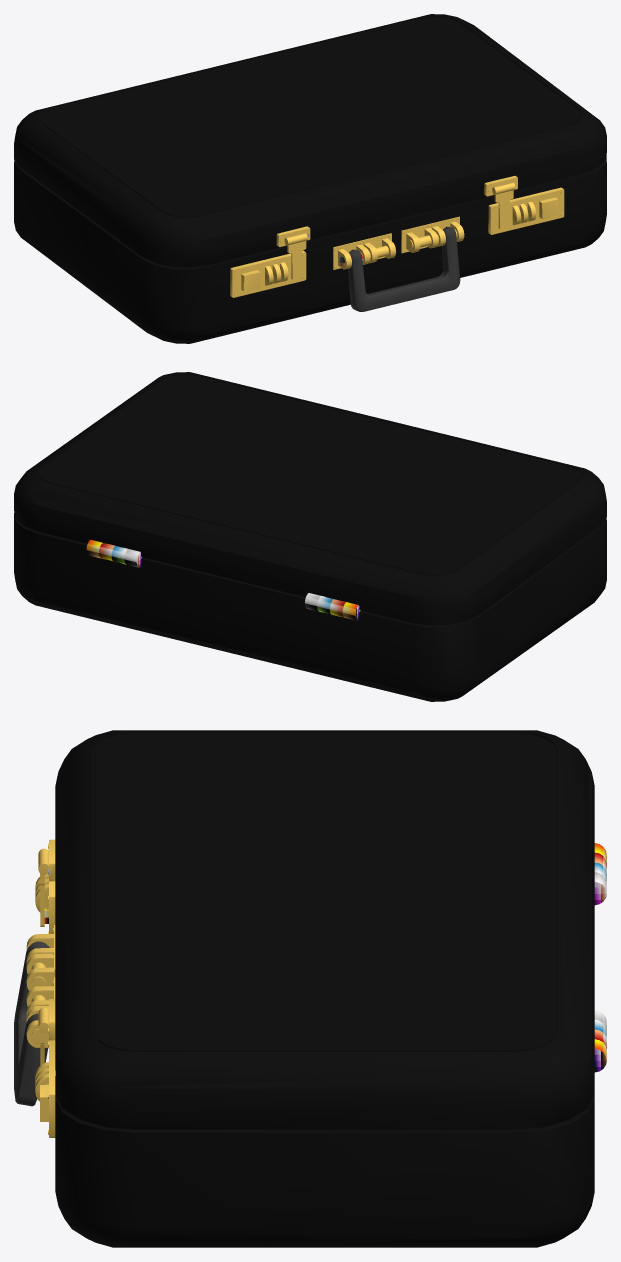
File: SM_Env_Briefcase.fbx
The picture shows the model from 3 angles, top to bottom: view 1: azimuth 30°, elevation 25°; view 2: azimuth 150°, elevation 25°; view 3: azimuth 270°, elevation 25°; orthographic projection. The views are drawn at different scales.
Parts seen in each view (by area): view 1: Briefcase; view 2: Briefcase; view 3: Briefcase.
Part boxes in pixels (bbox=[...]): Briefcase: bbox=[14, 14, 606, 343]; Briefcase: bbox=[14, 372, 606, 701]; Briefcase: bbox=[14, 730, 606, 1247].
Size of the model in its own units: 0.459 by 0.1184 by 0.3271.
